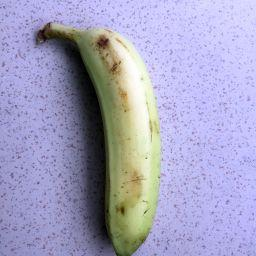Banana Ripe: (48, 11, 179, 256)
